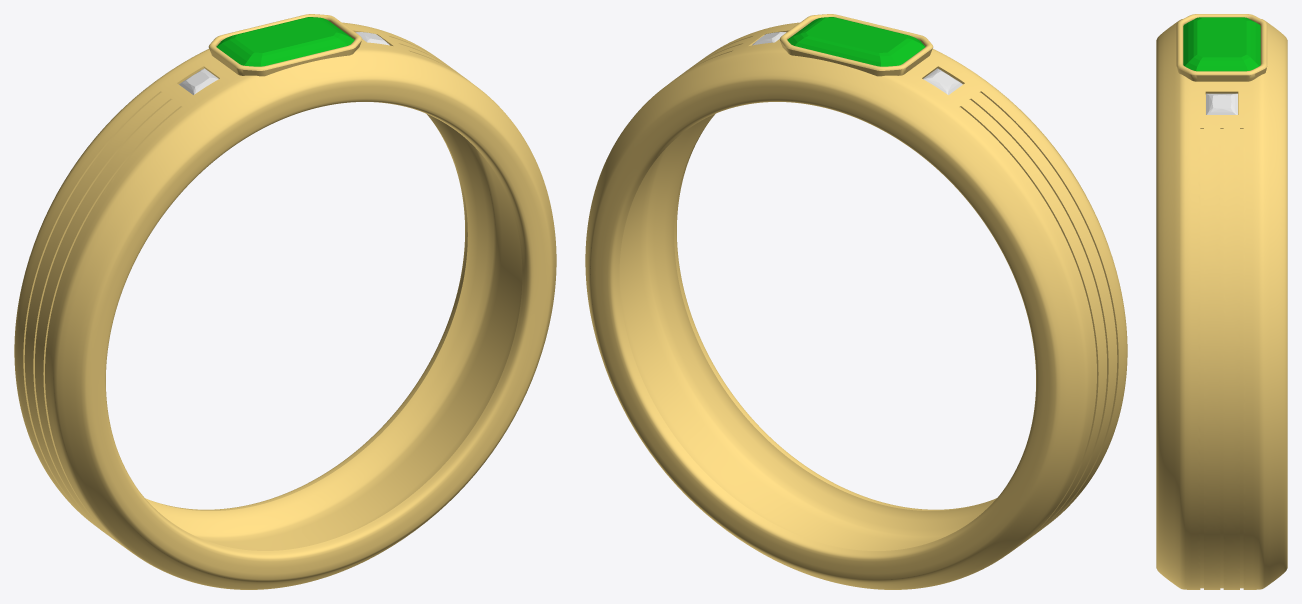
Rendered from PaigeYGTsav_blender.glb.
The picture shows the model from 3 angles, left to right: view 1: azimuth 30°, elevation 25°; view 2: azimuth 150°, elevation 25°; view 3: azimuth 270°, elevation 25°; orthographic projection.
Visible parts, largest first — view 1: Paige YG for 3d model, Paige emerald for 3d model; view 2: Paige YG for 3d model, Paige emerald for 3d model; view 3: Paige YG for 3d model, Paige emerald for 3d model, Paige dia for 3d model.
Boxes of the visible parts, bbox=[...] form: Paige YG for 3d model: bbox=[14, 14, 556, 589]; Paige emerald for 3d model: bbox=[216, 17, 354, 66]; Paige YG for 3d model: bbox=[585, 14, 1127, 589]; Paige emerald for 3d model: bbox=[787, 17, 925, 66]; Paige YG for 3d model: bbox=[1156, 14, 1287, 589]; Paige emerald for 3d model: bbox=[1183, 17, 1260, 71]; Paige dia for 3d model: bbox=[1206, 93, 1237, 114].
Size of the model in its own units: 22.16 by 22.48 by 5.1.
